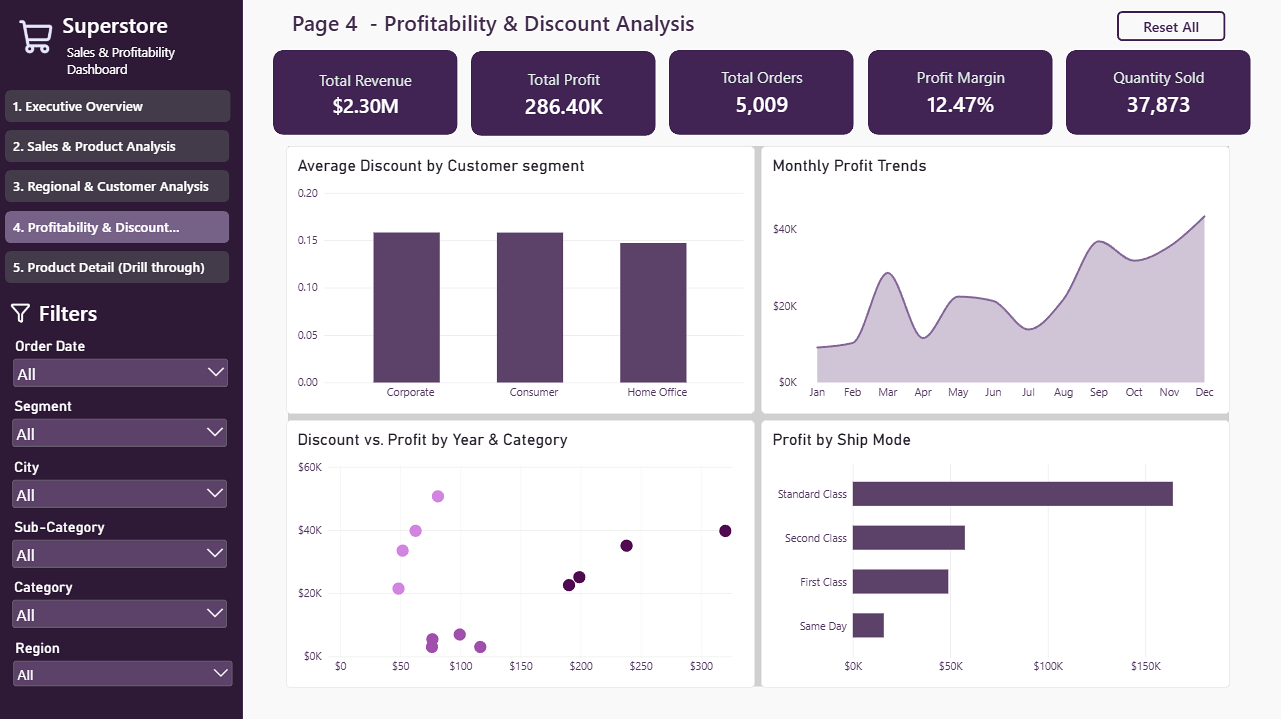

What the dashboard file says about the page in this screenshot:
{"tool":"powerbi","page":{"name":"Profitability & Discount","canvas":[1920,1080],"ordinal":3},"visuals":[{"type":"shape","box":[0,0,367.1,1080],"z":0,"group":"g1"},{"type":"group","id":"g1","title":"Group 6","box":[0,0,367.1,1080],"z":0,"group":"g13"},{"type":"textbox","box":[77.1,20,209.6,48.3],"z":0,"group":"g7"},{"type":"shape","box":[412.6,79.6,275.5,126.6],"z":0,"group":"g8"},{"type":"shape","box":[1004.3,79.6,275.7,126.6],"z":0,"group":"g10"},{"type":"shape","box":[1300.3,79.6,275.7,126.6],"z":0,"group":"g11"},{"type":"shape","box":[1596.3,79.6,275.7,126.6],"z":0,"group":"g12"},{"type":"shape","box":[708.3,80.9,275.7,126.6],"z":0,"group":"g9"},{"type":"actionButton","box":[13.1,140,337,48],"z":0,"group":"g6"},{"type":"shape","box":[434,222.2,1404.5,806.6],"z":0},{"type":"textbox","box":[43,450,125.4,46.7],"z":0,"group":"g5"},{"type":"group","id":"g2","title":"Group 1","box":[18,510,338.4,537.9],"z":0,"group":"g3"},{"type":"slicer","fields":{"Values":["Sample - Superstore.Order Date"]},"box":[19.8,510,330.4,87],"z":0,"group":"g2"},{"type":"textbox","box":[440.2,16,613.2,54.5],"z":1000},{"type":"group","id":"g3","title":"Group 5","box":[4.9,20,351.5,1027.9],"z":1000,"group":"g1"},{"type":"image","box":[30,32,55,55],"z":1000,"group":"g13"},{"type":"textbox","box":[105.6,70,221.6,61.4],"z":1000,"group":"g7"},{"type":"cardVisual","fields":{"Data":["Sum(Sample - Superstore.Sales)"]},"box":[412.8,101,277,88.2],"z":1000,"group":"g8"},{"type":"cardVisual","fields":{"Data":["Count(Sample - Superstore.Order ID)"]},"box":[1042.9,103.4,200,79],"z":1000,"group":"g10"},{"type":"cardVisual","fields":{"Data":["Sample - Superstore.Profit Margin"]},"box":[1338.9,103.4,200,79],"z":1000,"group":"g11"},{"type":"cardVisual","fields":{"Data":["Sum(Sample - Superstore.Quantity)"]},"box":[1634.9,103.4,200,79],"z":1000,"group":"g12"},{"type":"cardVisual","fields":{"Data":["Sum(Sample - Superstore.Profit)"]},"box":[747.7,106,200,79],"z":1000,"group":"g9"},{"type":"actionButton","box":[12.8,320,335,48],"z":1000,"group":"g6"},{"type":"image","box":[4.9,456.9,60.7,31.5],"z":1000,"group":"g5"},{"type":"slicer","fields":{"Values":["Sample - Superstore.Category"]},"box":[18.4,870,330.4,87],"z":1000,"group":"g2"},{"type":"group","id":"g4","title":"Group 13","box":[412.6,79.6,1460.3,128],"z":2000},{"type":"group","id":"g5","title":"Group 3","box":[4.9,140,345.2,356.7],"z":2000,"group":"g3"},{"type":"group","id":"g6","title":"Group 2","box":[12.8,140,337.2,288],"z":2000,"group":"g5"},{"type":"actionButton","box":[12.8,380,335,48],"z":2000,"group":"g6"},{"type":"slicer","fields":{"Values":["Sample - Superstore.Sub-Category"]},"box":[18.4,780,330.4,87],"z":2000,"group":"g2"},{"type":"group","id":"g7","title":"Group 4","box":[77.1,20,250.1,111.4],"z":3000,"group":"g3"},{"type":"group","id":"g8","title":"Group 7","box":[412.6,79.6,277.1,126.6],"z":3000,"group":"g4"},{"type":"lineChart","title":"Monthly Profit Trends","fields":{"Category":["Sample - Superstore.Month Short","Sample - Superstore.Order Date.Variation.Date Hierarchy.Year"],"Y":["Sum(Sample - Superstore.Profit)"]},"box":[1141,222.2,700,400],"z":3000},{"type":"actionButton","box":[12.8,260,335,48],"z":3000,"group":"g6"},{"type":"slicer","fields":{"Values":["Sample - Superstore.City"]},"box":[18,690,330.4,87],"z":3000,"group":"g2"},{"type":"group","id":"g9","title":"Group 8","box":[708.3,80.9,275.7,126.6],"z":4000,"group":"g4"},{"type":"actionButton","box":[12.8,200,335,48],"z":4000,"group":"g6"},{"type":"slicer","fields":{"Values":["Sample - Superstore.Segment"]},"box":[18.3,600,330.4,87],"z":4000,"group":"g2"},{"type":"scatterChart","title":"Discount vs. Profit by Year & Category","fields":{"Category":["Sample - Superstore.Order Date.Variation.Date Hierarchy.Year"],"Series":["Sample - Superstore.Category"],"X":["Sum(Sample - Superstore.Discount)"],"Y":["Sum(Sample - Superstore.Profit)"]},"box":[431,632,700,400],"z":4000},{"type":"group","id":"g10","title":"Group 9","box":[1004.3,79.6,275.7,126.6],"z":5000,"group":"g4"},{"type":"clusteredBarChart","title":"Profit by Ship Mode","fields":{"Category":["Sample - Superstore.Ship Mode"],"Y":["Sum(Sample - Superstore.Profit)"]},"box":[1141,632,700,400],"z":5000},{"type":"slicer","fields":{"Values":["Sample - Superstore.Region"]},"box":[19.8,960,336.5,87.9],"z":5000,"group":"g2"},{"type":"group","id":"g11","title":"Group 10","box":[1300.3,79.6,275.7,126.6],"z":6000,"group":"g4"},{"type":"clusteredColumnChart","title":"Average Discount by Customer segment","fields":{"Category":["Sample - Superstore.Segment"],"Y":["Avg(Sample - Superstore.Discount)"]},"box":[431,222.2,700,400],"z":6000},{"type":"actionButton","box":[1672.2,20.8,162,45],"z":7000},{"type":"group","id":"g12","title":"Group 11","box":[1596.3,79.6,275.7,126.6],"z":7000,"group":"g4"},{"type":"group","id":"g13","title":"Group 12","box":[0,0,367.1,1080],"z":8000}]}

Visuals, with their boxes on the page's 1920x1080 design canvas (x1, y1, x2, y2). These are canvas units, not pixel positions in the 1281x719 screenshot, which may show the page scaled, cropped or inside an application window:
shape: rect(0, 0, 367, 1080)
"Group 6" group: rect(0, 0, 367, 1080)
textbox: rect(77, 20, 287, 68)
shape: rect(413, 80, 688, 206)
shape: rect(1004, 80, 1280, 206)
shape: rect(1300, 80, 1576, 206)
shape: rect(1596, 80, 1872, 206)
shape: rect(708, 81, 984, 208)
actionButton: rect(13, 140, 350, 188)
shape: rect(434, 222, 1838, 1029)
textbox: rect(43, 450, 168, 497)
"Group 1" group: rect(18, 510, 356, 1048)
slicer - Sample - Superstore.Order Date: rect(20, 510, 350, 597)
textbox: rect(440, 16, 1053, 70)
"Group 5" group: rect(5, 20, 356, 1048)
image: rect(30, 32, 85, 87)
textbox: rect(106, 70, 327, 131)
cardVisual - Sum(Sample - Superstore.Sales): rect(413, 101, 690, 189)
cardVisual - Count(Sample - Superstore.Order ID): rect(1043, 103, 1243, 182)
cardVisual - Sample - Superstore.Profit Margin: rect(1339, 103, 1539, 182)
cardVisual - Sum(Sample - Superstore.Quantity): rect(1635, 103, 1835, 182)
cardVisual - Sum(Sample - Superstore.Profit): rect(748, 106, 948, 185)
actionButton: rect(13, 320, 348, 368)
image: rect(5, 457, 66, 488)
slicer - Sample - Superstore.Category: rect(18, 870, 349, 957)
"Group 13" group: rect(413, 80, 1873, 208)
"Group 3" group: rect(5, 140, 350, 497)
"Group 2" group: rect(13, 140, 350, 428)
actionButton: rect(13, 380, 348, 428)
slicer - Sample - Superstore.Sub-Category: rect(18, 780, 349, 867)
"Group 4" group: rect(77, 20, 327, 131)
"Group 7" group: rect(413, 80, 690, 206)
"Monthly Profit Trends" lineChart: rect(1141, 222, 1841, 622)
actionButton: rect(13, 260, 348, 308)
slicer - Sample - Superstore.City: rect(18, 690, 348, 777)
"Group 8" group: rect(708, 81, 984, 208)
actionButton: rect(13, 200, 348, 248)
slicer - Sample - Superstore.Segment: rect(18, 600, 349, 687)
"Discount vs. Profit by Year & Category" scatterChart: rect(431, 632, 1131, 1032)
"Group 9" group: rect(1004, 80, 1280, 206)
"Profit by Ship Mode" clusteredBarChart: rect(1141, 632, 1841, 1032)
slicer - Sample - Superstore.Region: rect(20, 960, 356, 1048)
"Group 10" group: rect(1300, 80, 1576, 206)
"Average Discount by Customer segment" clusteredColumnChart: rect(431, 222, 1131, 622)
actionButton: rect(1672, 21, 1834, 66)
"Group 11" group: rect(1596, 80, 1872, 206)
"Group 12" group: rect(0, 0, 367, 1080)
